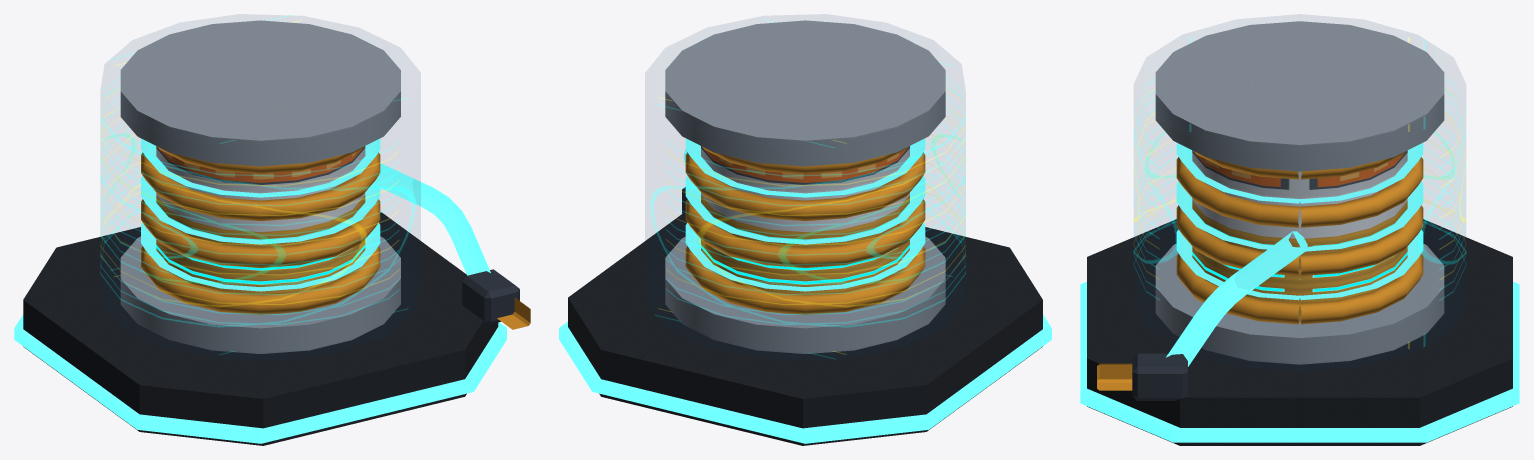
Rendered from prop_super_wire_spool.glb.
The picture shows the model from 3 angles, left to right: view 1: azimuth 30°, elevation 25°; view 2: azimuth 150°, elevation 25°; view 3: azimuth 270°, elevation 25°; orthographic projection. The views are drawn at different scales.
Visible parts, largest first — view 1: SuperWireSpool_Root; view 2: SuperWireSpool_Root; view 3: SuperWireSpool_Root.
Part boxes in pixels (x1=…): SuperWireSpool_Root: x1=14, y1=15, x2=530, y2=445; SuperWireSpool_Root: x1=559, y1=19, x2=1051, y2=445; SuperWireSpool_Root: x1=1080, y1=21, x2=1519, y2=445.
Bounding box in the file's own units: 0.33 × 0.226 × 0.33.
Materials: 7 (7 with a texture image).
